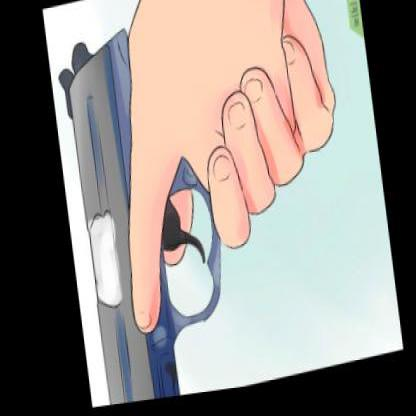pistol: (50, 0, 234, 409)
